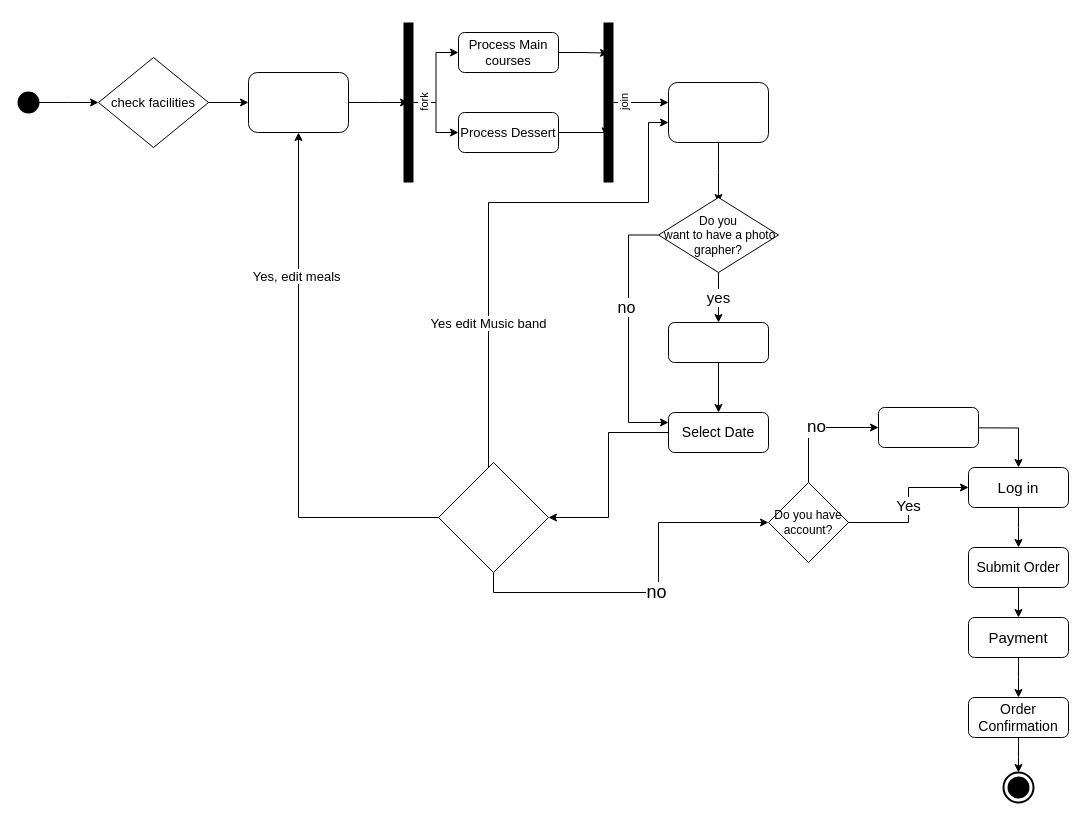
The diagram is 1086 pixels wide and 820 high, and some of its shapes have lost their labels. The centre of each missing label's shape, as x and y in pixels:
"Add photo grapher" belongs at point 718,342.
"choose meals" belongs at point 298,102.
"choose music band" belongs at point 718,112.
"Do you want to Edit your request?" belongs at point 493,517.
"Sign up" belongs at point 928,427.
